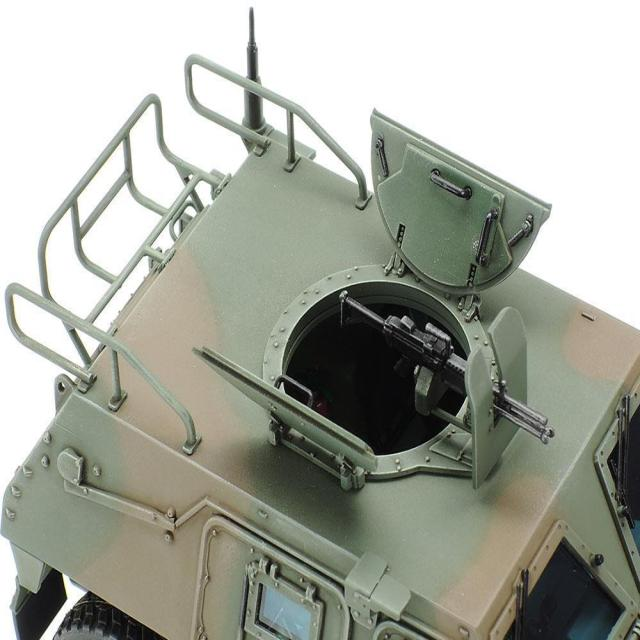Tanks: (20, 58, 634, 616)
